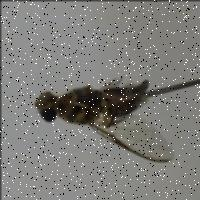Oriental-fruit-fly: (28, 62, 180, 172)
